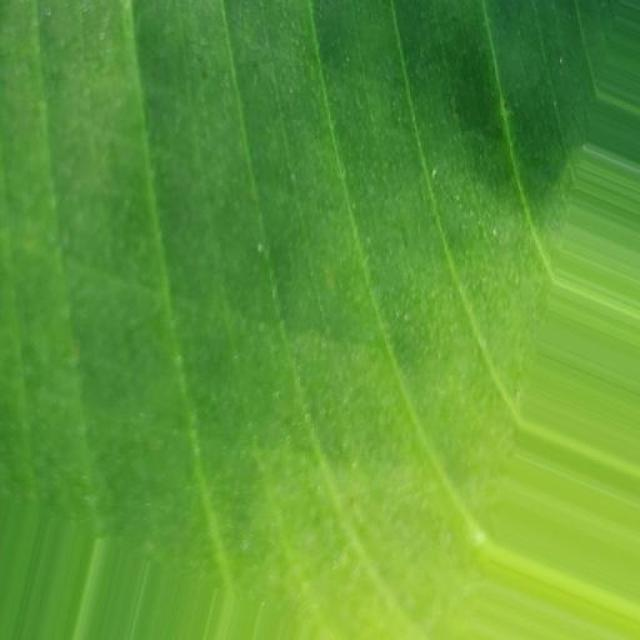Black_leaf_spot: (0, 0, 565, 582)
